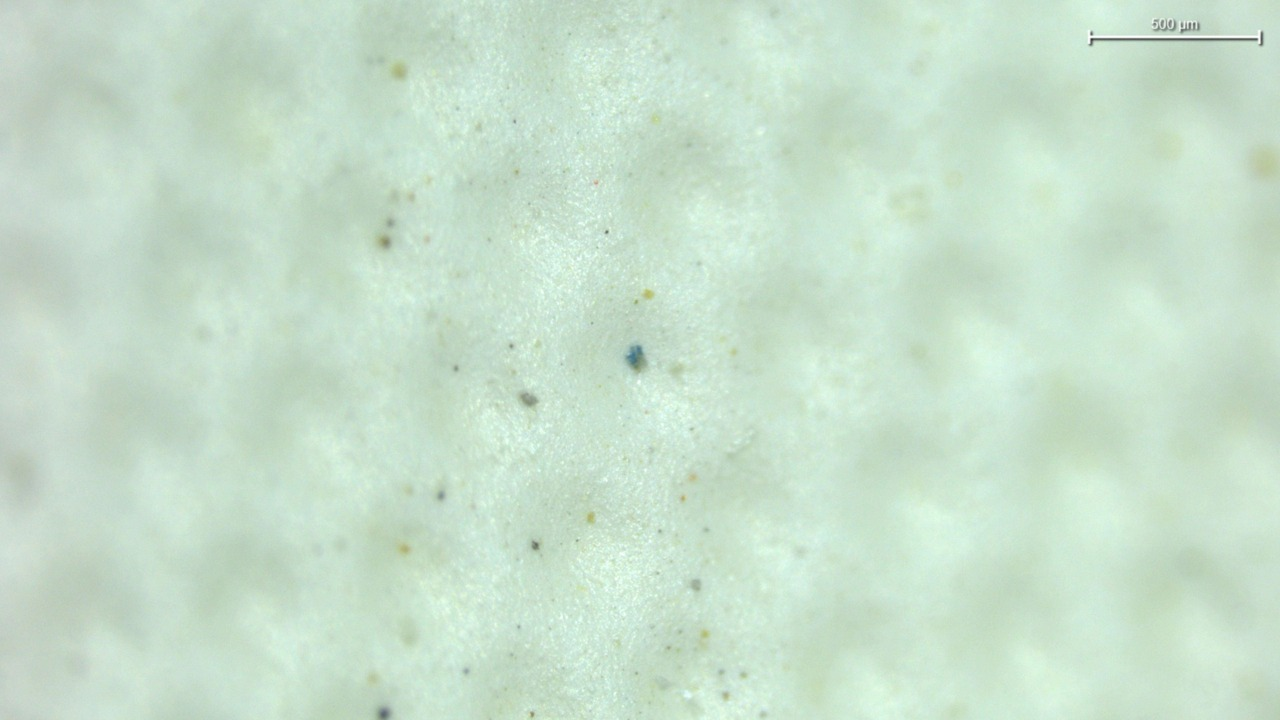microplastic_fragment: (626, 345, 643, 367)
